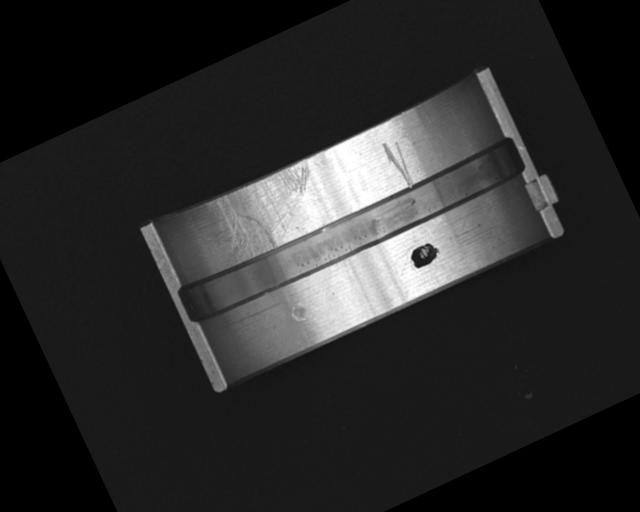blot: (406, 238, 443, 270)
bruise: (287, 298, 310, 325)
gap: (176, 134, 529, 328)
nick: (379, 136, 418, 192)
scratch: (197, 156, 334, 272)
